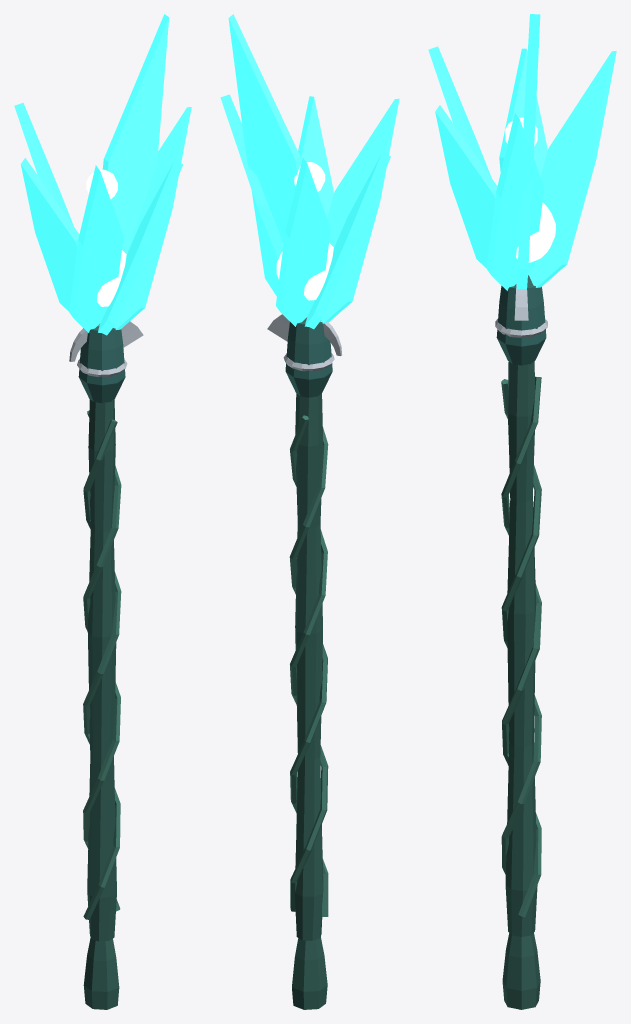
Rendered from staff_tealflame.glb.
3 views of the same model, side by side, from view 1: azimuth 30°, elevation 25°; view 2: azimuth 150°, elevation 25°; view 3: azimuth 270°, elevation 25° (orthographic). The views are drawn at different scales.
Parts seen in each view (by area): view 1: Tf_Shaft, Tf_Flame0, Tf_Flame3, Tf_Flame2, Tf_Flame5, Tf_Vine1, Tf_Flame4, Tf_Neck, Tf_Vine0, Tf_Butt, Tf_Flame1, Tf_Moon (+1 smaller); view 2: Tf_Shaft, Tf_Flame0, Tf_Flame1, Tf_Flame3, Tf_Flame2, Tf_Vine0, Tf_Vine1, Tf_Neck, Tf_Butt, Tf_Flame5, Tf_Flame4, Tf_Moon (+1 smaller); view 3: Tf_Shaft, Tf_Flame1, Tf_Flame5, Tf_Flame4, Tf_Vine0, Tf_Vine1, Tf_Flame0, Tf_Neck, Tf_Butt, Tf_Flame2, Tf_Flame3, Tf_Core.
Part boxes in pixels (x1=…): Tf_Shaft: x1=87, y1=399, x2=116, y2=941; Tf_Flame0: x1=102, y1=14, x2=169, y2=254; Tf_Flame3: x1=69, y1=165, x2=123, y2=332; Tf_Flame2: x1=20, y1=158, x2=79, y2=311; Tf_Flame5: x1=113, y1=107, x2=191, y2=329; Tf_Vine1: x1=83, y1=419, x2=121, y2=919; Tf_Flame4: x1=98, y1=161, x2=182, y2=335; Tf_Neck: x1=78, y1=326, x2=125, y2=403; Tf_Vine0: x1=83, y1=410, x2=121, y2=911; Tf_Butt: x1=83, y1=938, x2=119, y2=1009; Tf_Flame1: x1=14, y1=102, x2=73, y2=225; Tf_Moon: x1=69, y1=321, x2=143, y2=361; Tf_Shaft: x1=295, y1=393, x2=323, y2=940; Tf_Flame0: x1=228, y1=14, x2=301, y2=296; Tf_Flame1: x1=276, y1=157, x2=330, y2=326; Tf_Flame3: x1=320, y1=98, x2=399, y2=323; Tf_Flame2: x1=304, y1=153, x2=390, y2=329; Tf_Vine0: x1=290, y1=415, x2=328, y2=911; Tf_Vine1: x1=289, y1=426, x2=328, y2=916; Tf_Neck: x1=285, y1=318, x2=332, y2=397; Tf_Butt: x1=292, y1=937, x2=327, y2=1009; Tf_Flame5: x1=220, y1=94, x2=283, y2=259; Tf_Flame4: x1=298, y1=96, x2=333, y2=217; Tf_Moon: x1=267, y1=314, x2=341, y2=355; Tf_Shaft: x1=505, y1=361, x2=537, y2=936; Tf_Flame1: x1=528, y1=51, x2=616, y2=287; Tf_Flame5: x1=486, y1=113, x2=544, y2=290; Tf_Flame4: x1=435, y1=105, x2=497, y2=268; Tf_Vine0: x1=501, y1=376, x2=541, y2=916; Tf_Vine1: x1=501, y1=379, x2=541, y2=874; Tf_Flame0: x1=516, y1=14, x2=540, y2=288; Tf_Neck: x1=496, y1=275, x2=546, y2=365; Tf_Butt: x1=502, y1=933, x2=540, y2=1009; Tf_Flame2: x1=499, y1=48, x2=547, y2=275; Tf_Flame3: x1=428, y1=46, x2=491, y2=177; Tf_Core: x1=516, y1=202, x2=555, y2=262.
Size of the model in its own units: 0.4792 by 2.6 by 0.4332.
